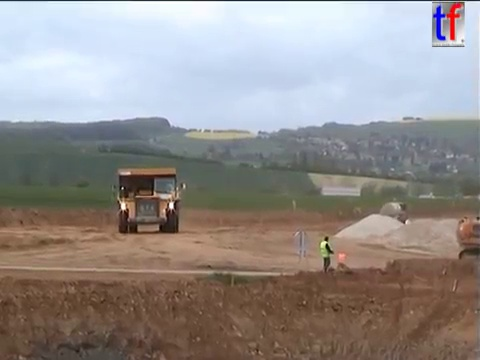excavator: (453, 214, 480, 271)
truck: (111, 165, 186, 235), (378, 200, 407, 227)
worker: (318, 234, 336, 275)
